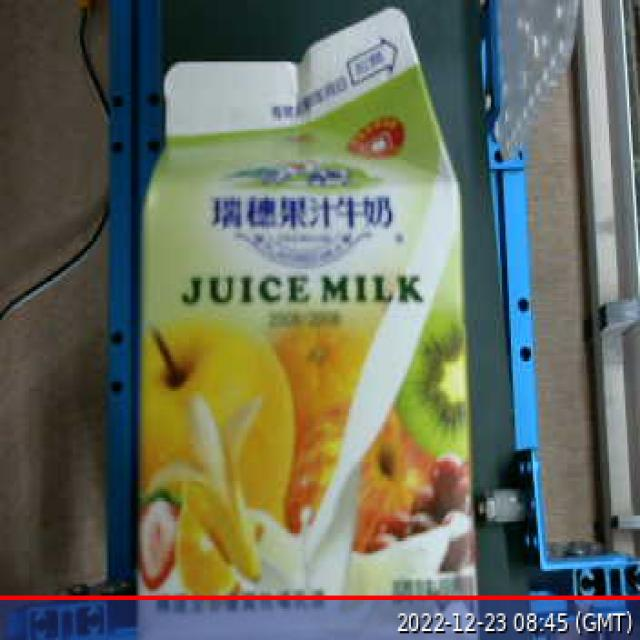non_white_jug: (118, 0, 500, 640)
